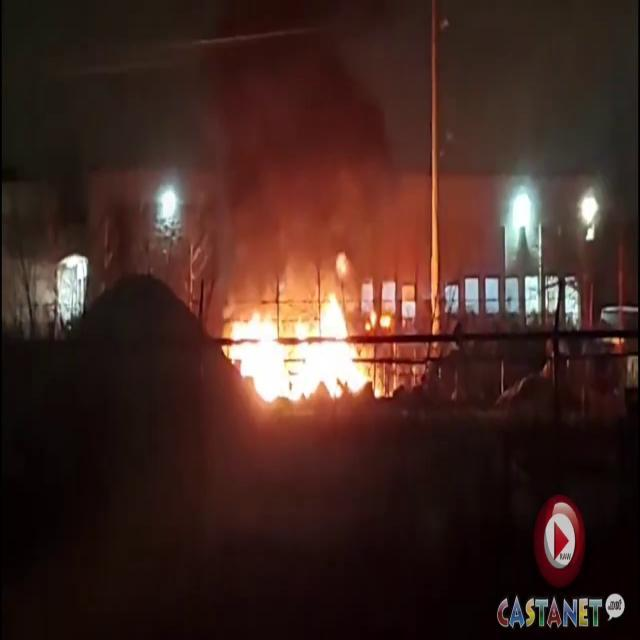Fire: (220, 280, 382, 412)
Smoke: (207, 1, 428, 263)
